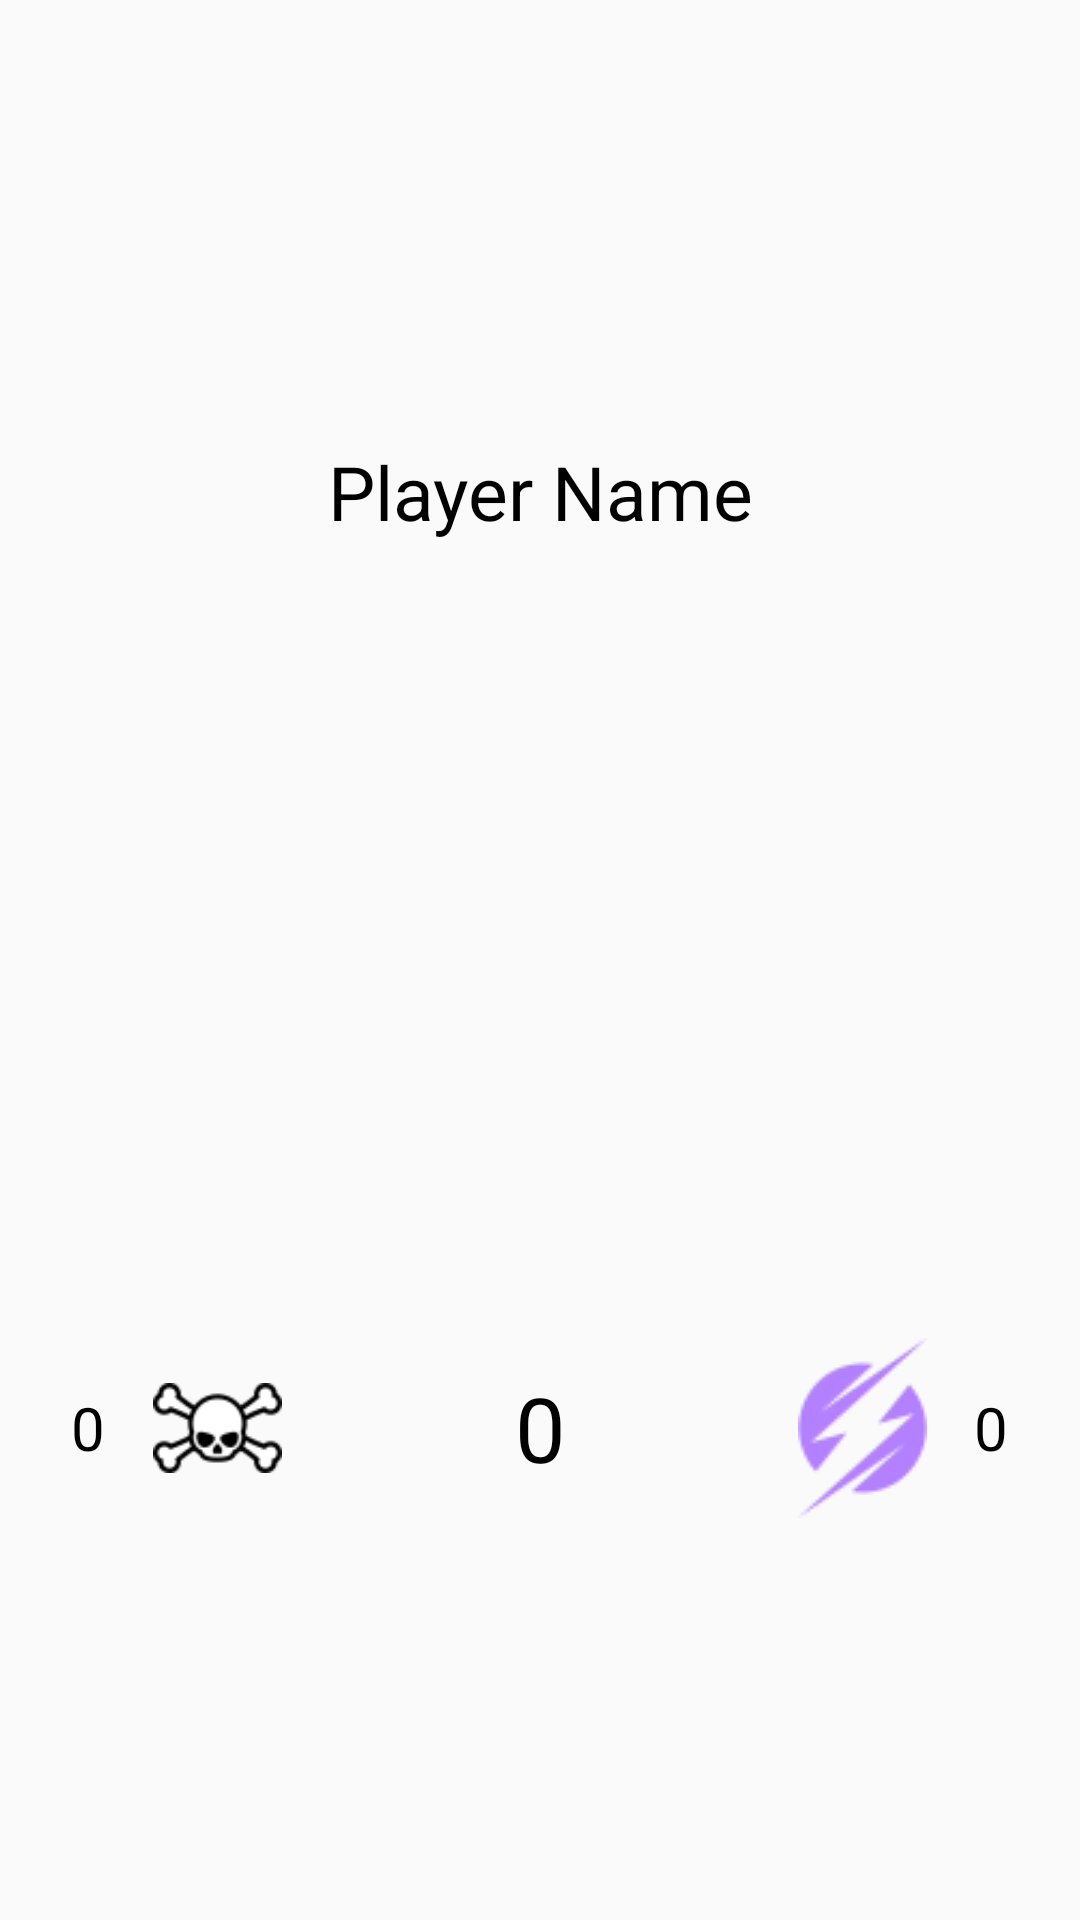

Where icons sit on this 1080px×1920px app screen, as (x1, y1, x2, y2):
counter energy: (798, 1342, 927, 1514)
counter poison: (153, 1383, 282, 1473)
